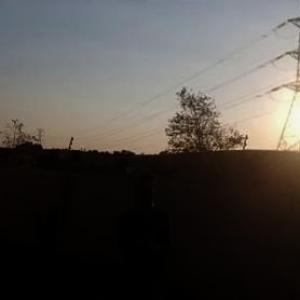follow: (111, 167, 176, 299)
